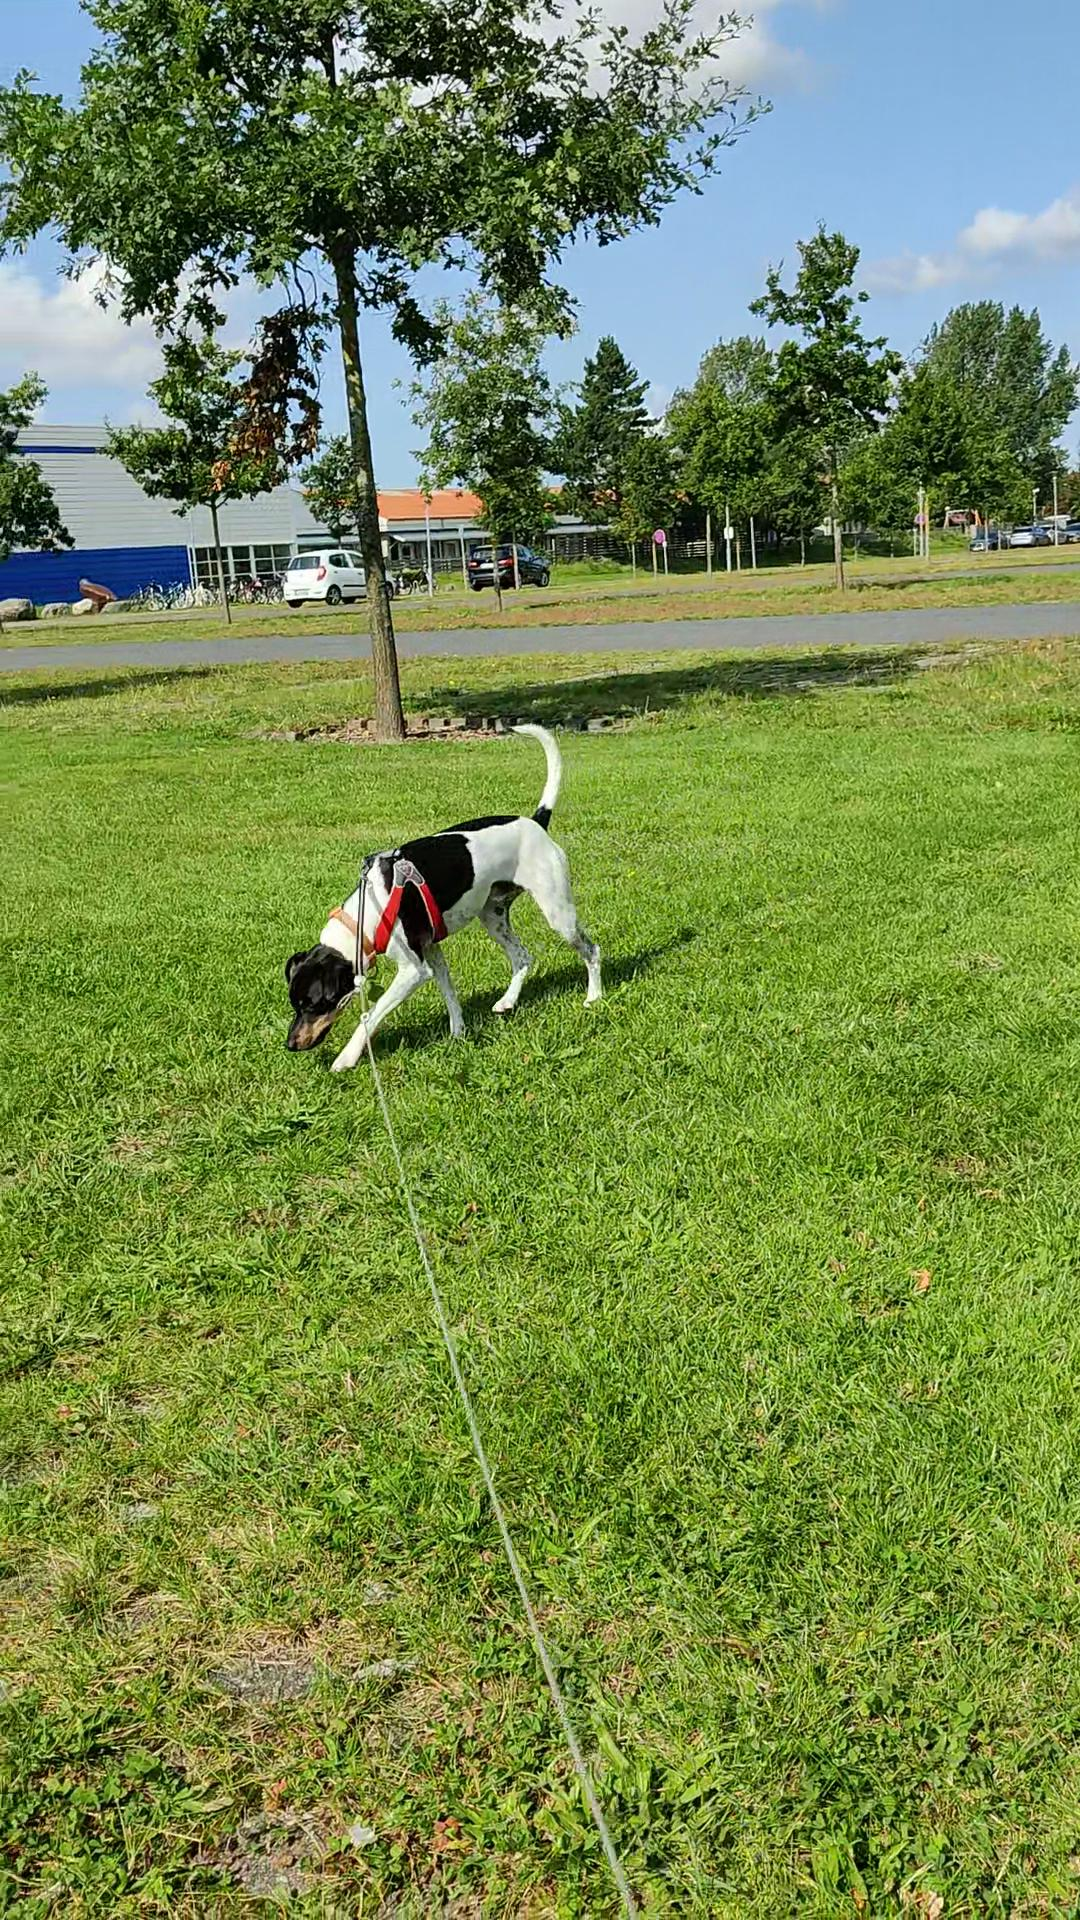Dog: (277, 713, 616, 1077)
